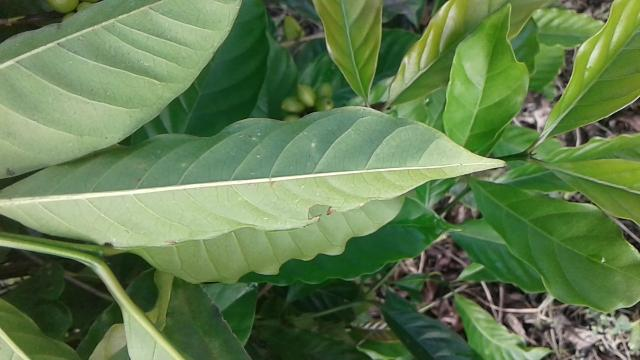rust_level_1: (0, 107, 512, 252)
